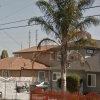Tree: (39, 4, 97, 79)
